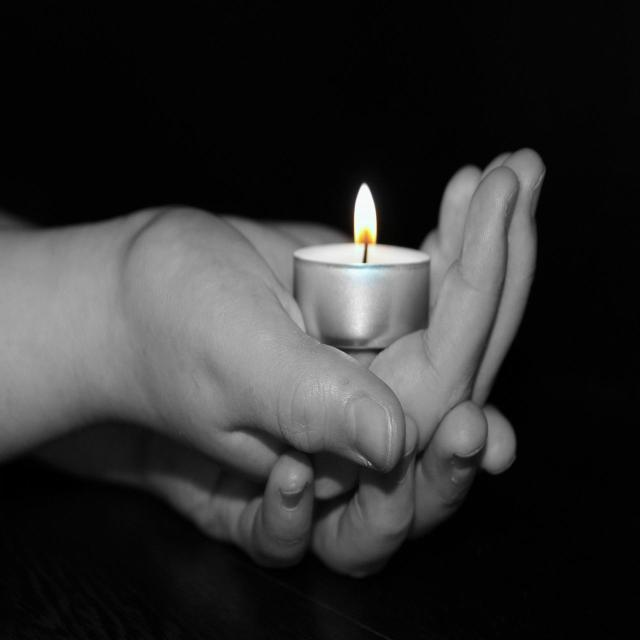Fire_Save: (292, 181, 431, 355)
